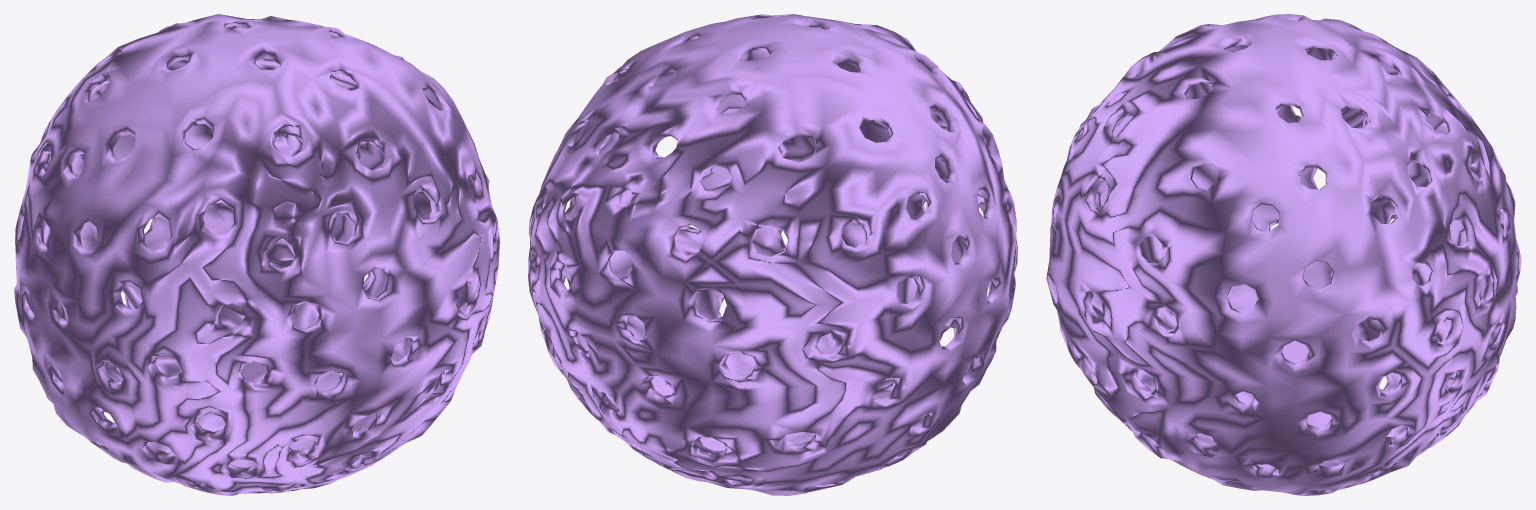
The model's file is Nuclear_Envelope.fbx.
3 views of the same model, side by side, from view 1: azimuth 30°, elevation 25°; view 2: azimuth 150°, elevation 25°; view 3: azimuth 270°, elevation 25° (orthographic). The views are drawn at different scales.
Visible parts, largest first — view 1: Nuclear_Envelope; view 2: Nuclear_Envelope; view 3: Nuclear_Envelope.
Boxes of the visible parts, <box> form: Nuclear_Envelope: <box>14,14,499,495</box>; Nuclear_Envelope: <box>528,14,1017,495</box>; Nuclear_Envelope: <box>1046,14,1521,495</box>.
Size of the model in its own units: 1089 by 1095 by 1093.
